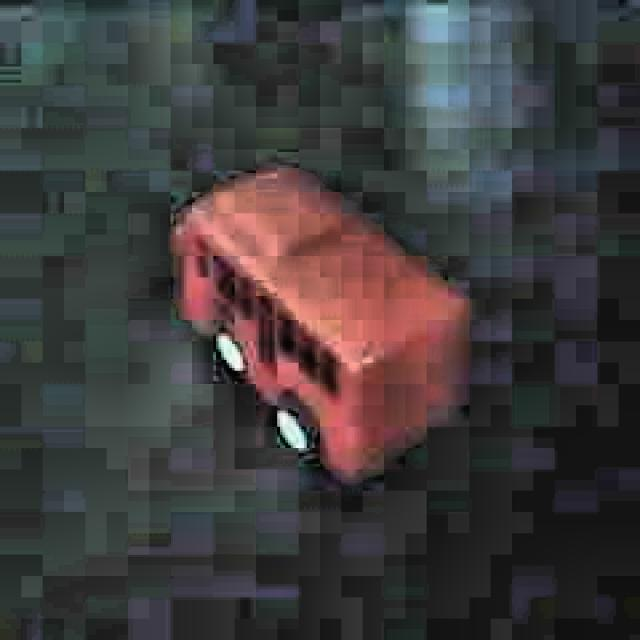bus: (161, 152, 471, 491)
